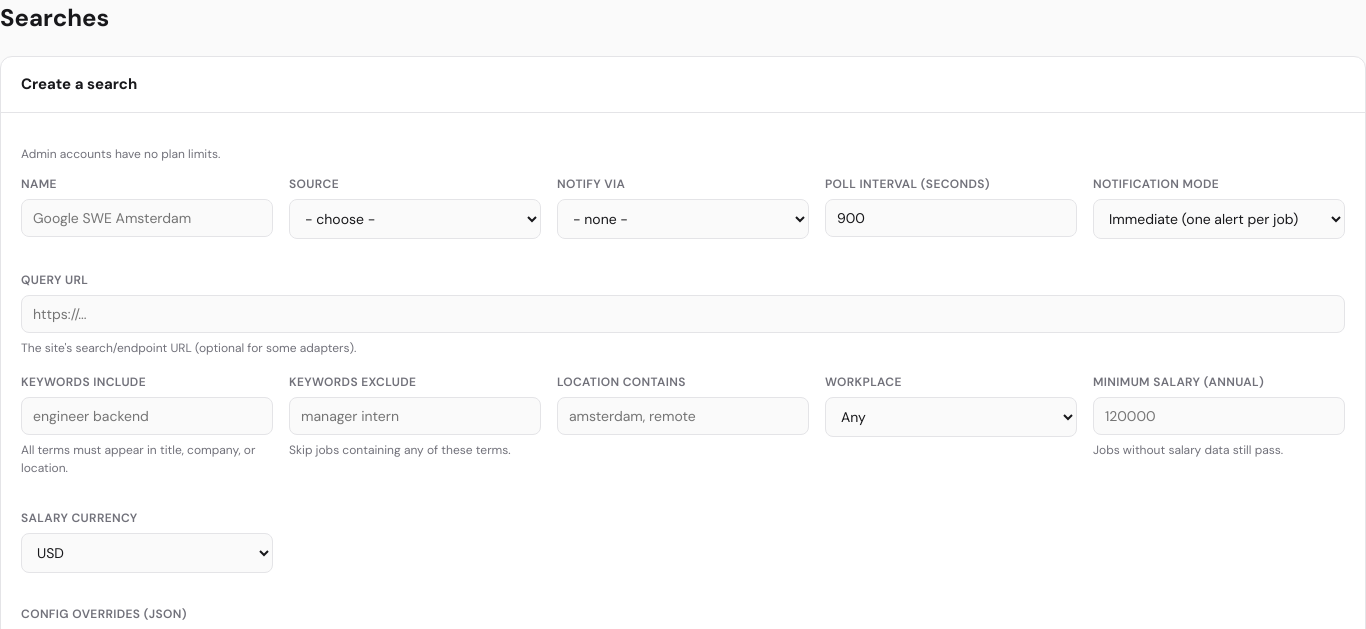
Test case: SearchesPage › surfaces a create failure as an error banner
Type "Name" into the field with placeholder "Google SWE Amsterdam" at [147, 218], box top-left (21, 198), bottom-right (273, 236)
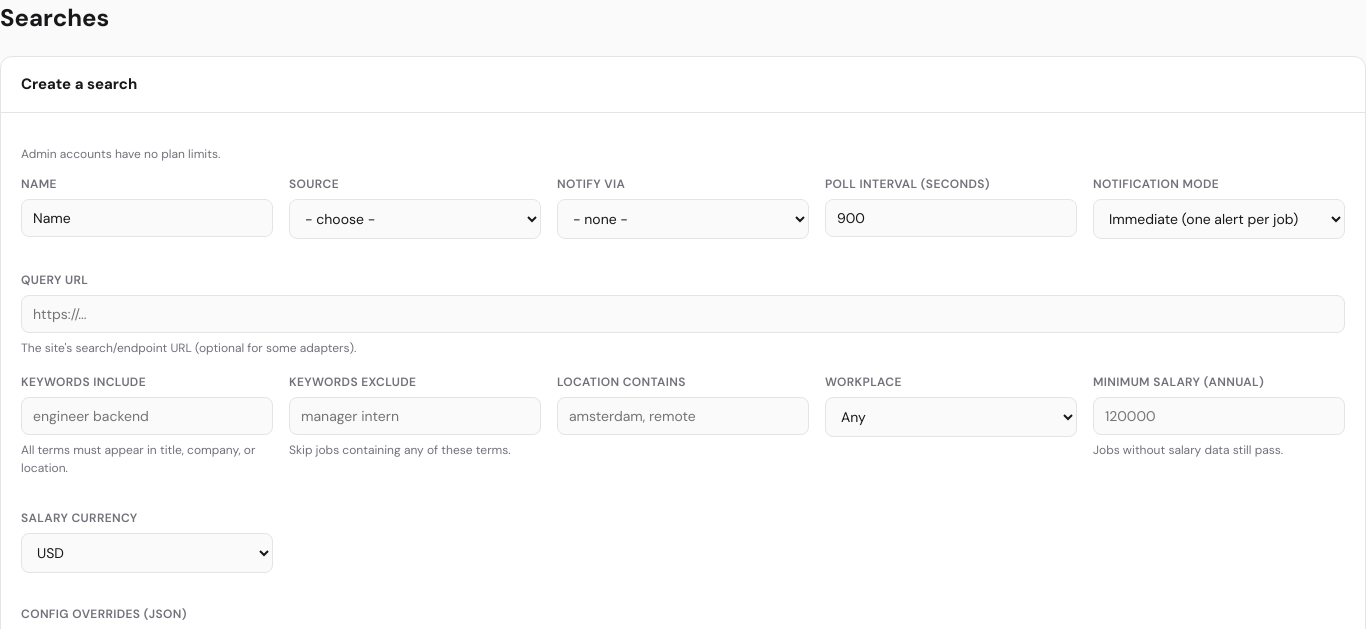
Select "ACME Careers (greenhouse)" in the dropdown labelled "Source" at [415, 218], box top-left (289, 198), bottom-right (541, 238)
(page scrolled)
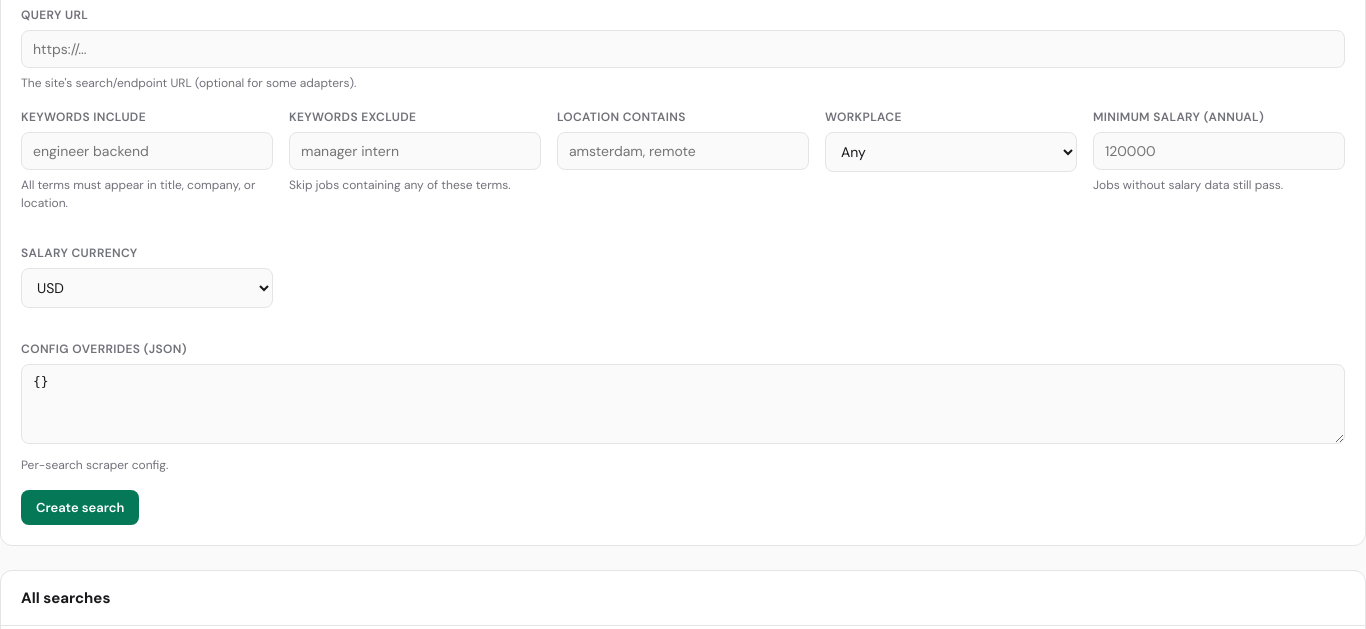
Click the button "Create search" at [80, 507], box top-left (21, 490), bottom-right (139, 524)
(page scrolled)
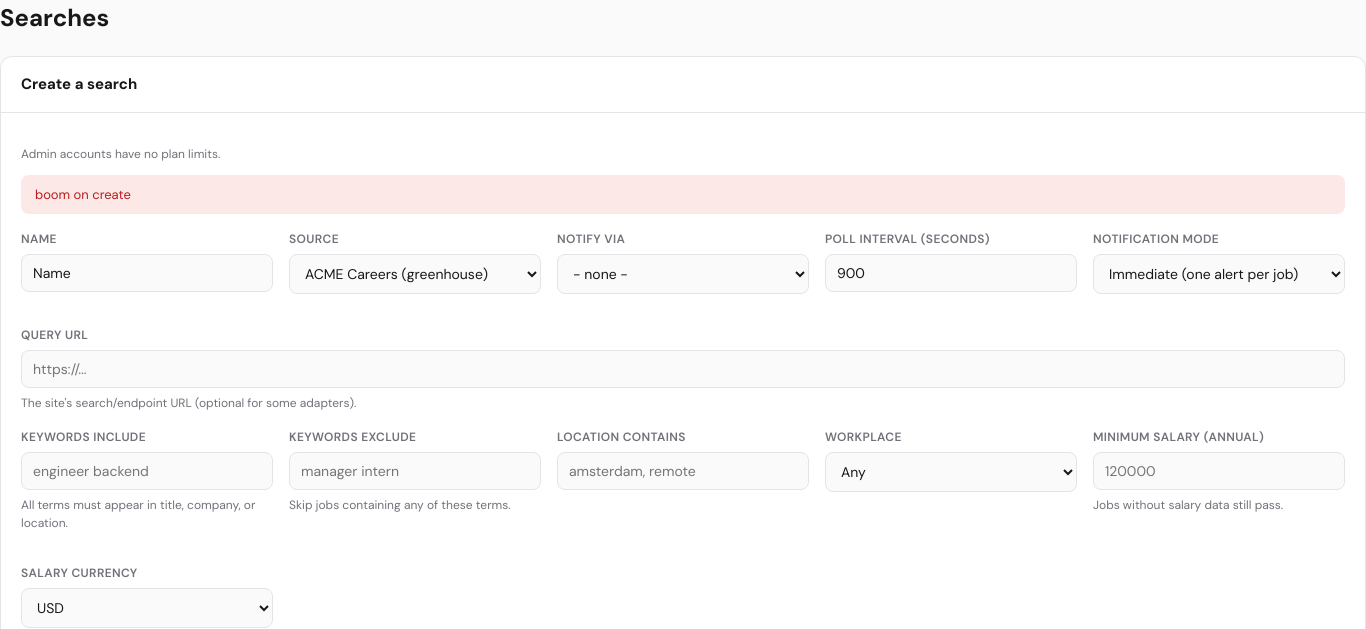
Expected: the text "boom on create" is shown, top-left (21, 174), bottom-right (1345, 214)
